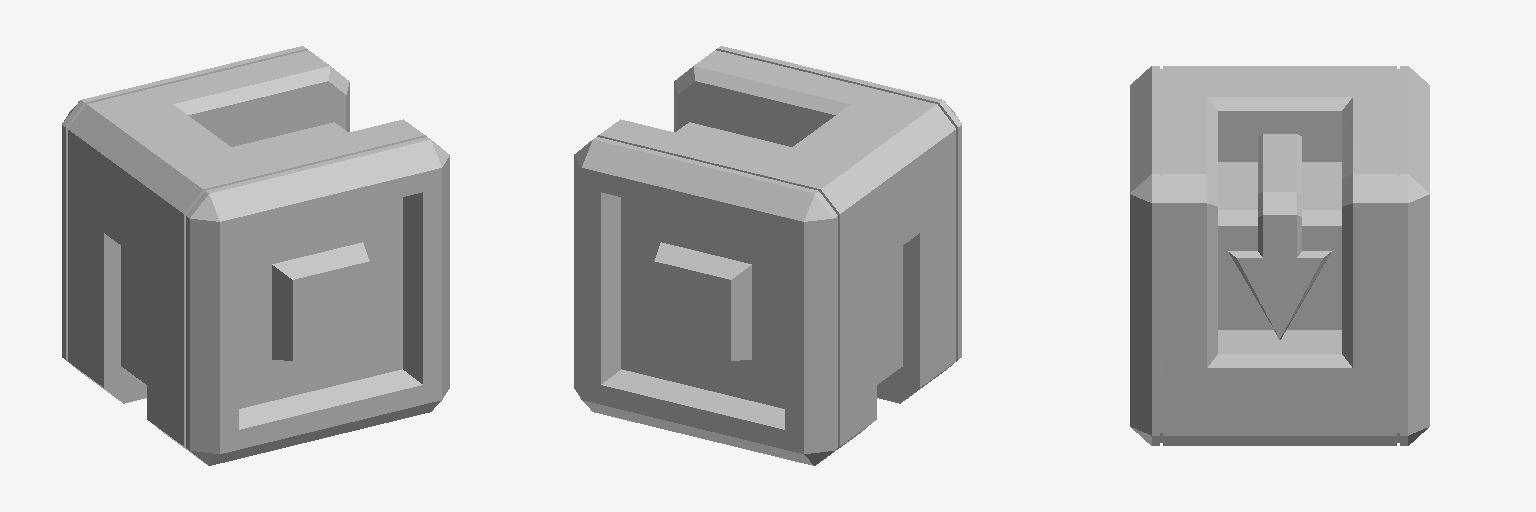
Rendered from fant_angle_sensor_1.obj.
The picture shows the model from 3 angles: view 1: azimuth 30°, elevation 25°; view 2: azimuth 150°, elevation 25°; view 3: azimuth 270°, elevation 25°; orthographic projection.
Parts seen in each view (by area): view 1: fant_angle_sensor_Cube; view 2: fant_angle_sensor_Cube; view 3: fant_angle_sensor_Cube.
Boxes of the visible parts, x1=… form: fant_angle_sensor_Cube: x1=62, y1=46, x2=449, y2=465; fant_angle_sensor_Cube: x1=574, y1=46, x2=961, y2=465; fant_angle_sensor_Cube: x1=1130, y1=66, x2=1429, y2=445.
Size of the model in its own units: 1 by 1 by 1.